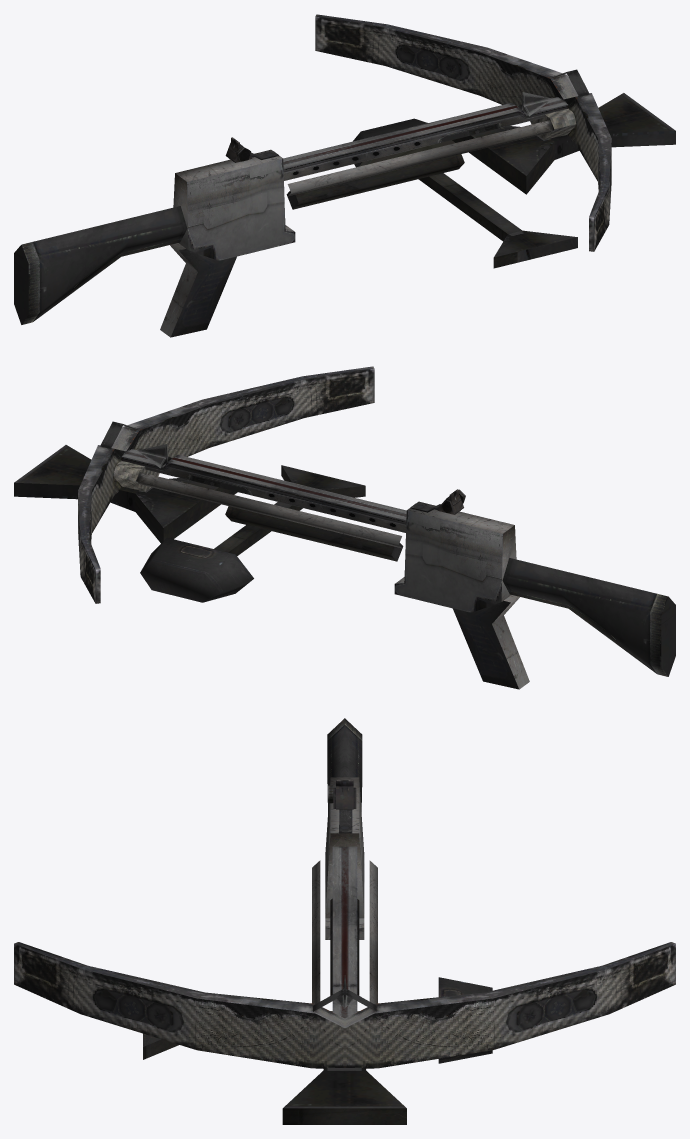
File: t5_weapon_mp_crossbow_stow_LOD1.obj
The picture shows the model from 3 angles, top to bottom: view 1: azimuth 30°, elevation 25°; view 2: azimuth 150°, elevation 25°; view 3: azimuth 270°, elevation 25°; orthographic projection. The views are drawn at different scales.
Parts seen in each view (by area): view 1: mtl_t5_weapon_crossbow; view 2: mtl_t5_weapon_crossbow; view 3: mtl_t5_weapon_crossbow.
Part boxes in pixels (left/top/right/bottom): mtl_t5_weapon_crossbow: left=14, top=14, right=675, bottom=337; mtl_t5_weapon_crossbow: left=14, top=366, right=675, bottom=689; mtl_t5_weapon_crossbow: left=14, top=718, right=675, bottom=1124.
Size of the model in its own units: 88.79 by 23.81 by 67.92.
